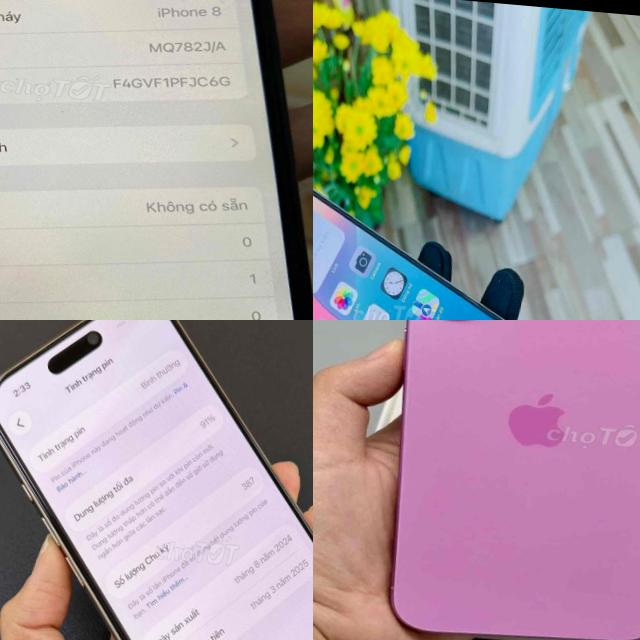gen_12_13: (313, 162, 577, 320)
gen_16: (0, 320, 313, 640), (371, 320, 640, 640)
gen_7_8: (0, 0, 313, 320)
